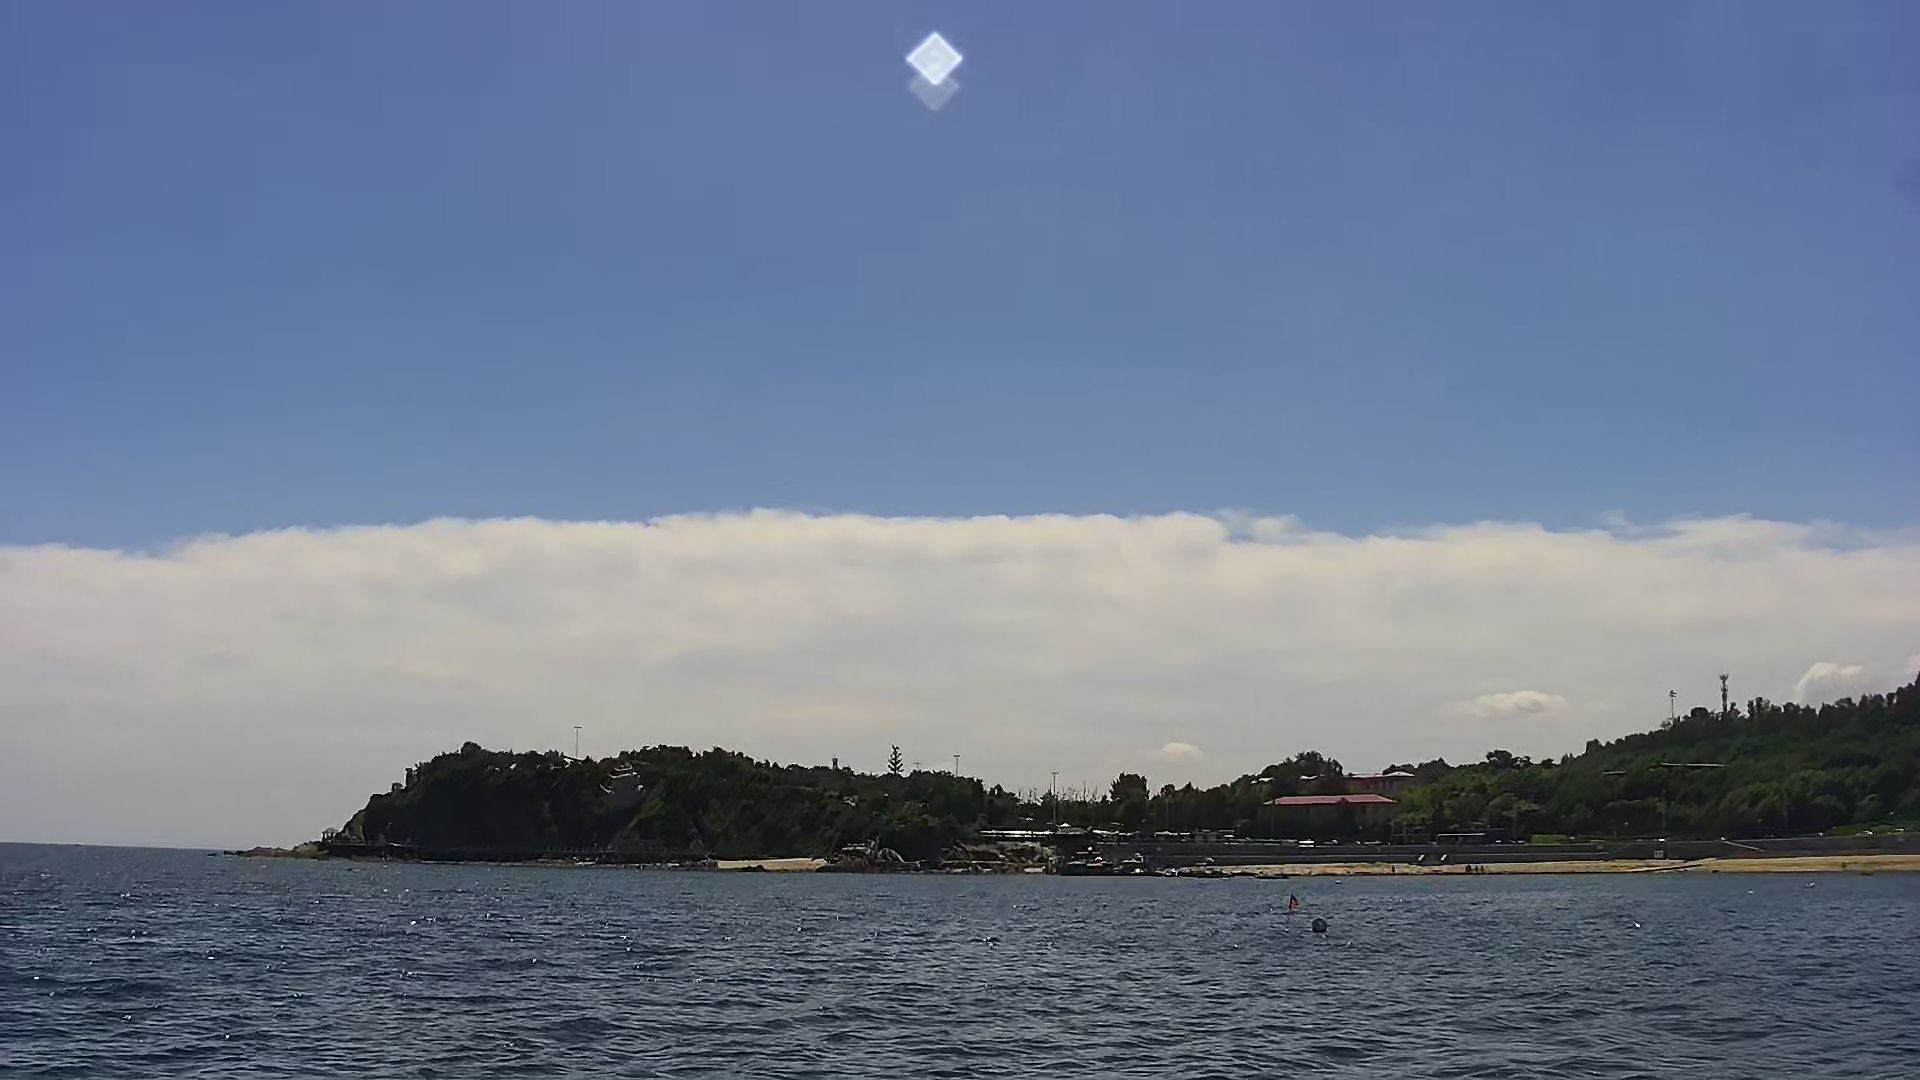ball: (1308, 910, 1336, 943)
boat: (1055, 853, 1156, 872)
buoy: (1280, 887, 1304, 927)
